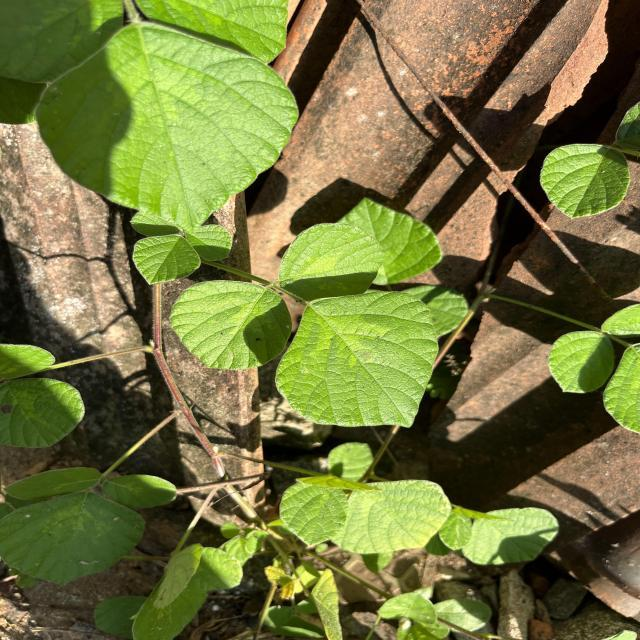Pseudarthria viscida: (166, 220, 440, 430)
